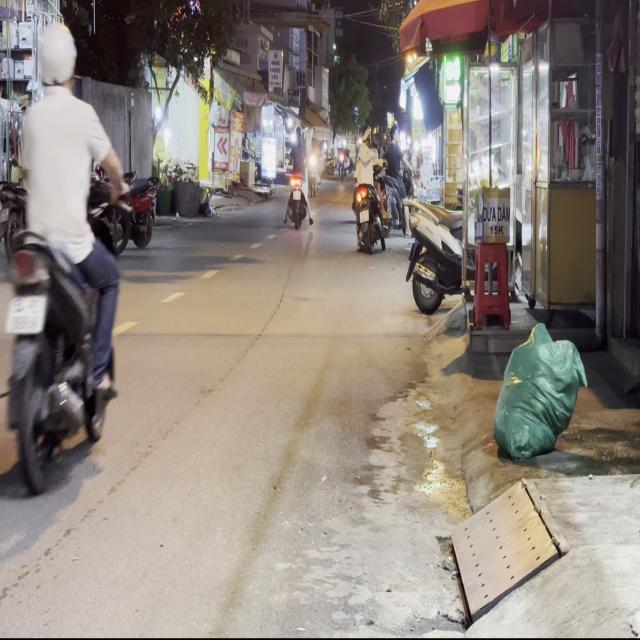helmet: (36, 21, 77, 93)
licenseplate: (0, 20, 127, 490)
nohelmet: (5, 294, 45, 332)
